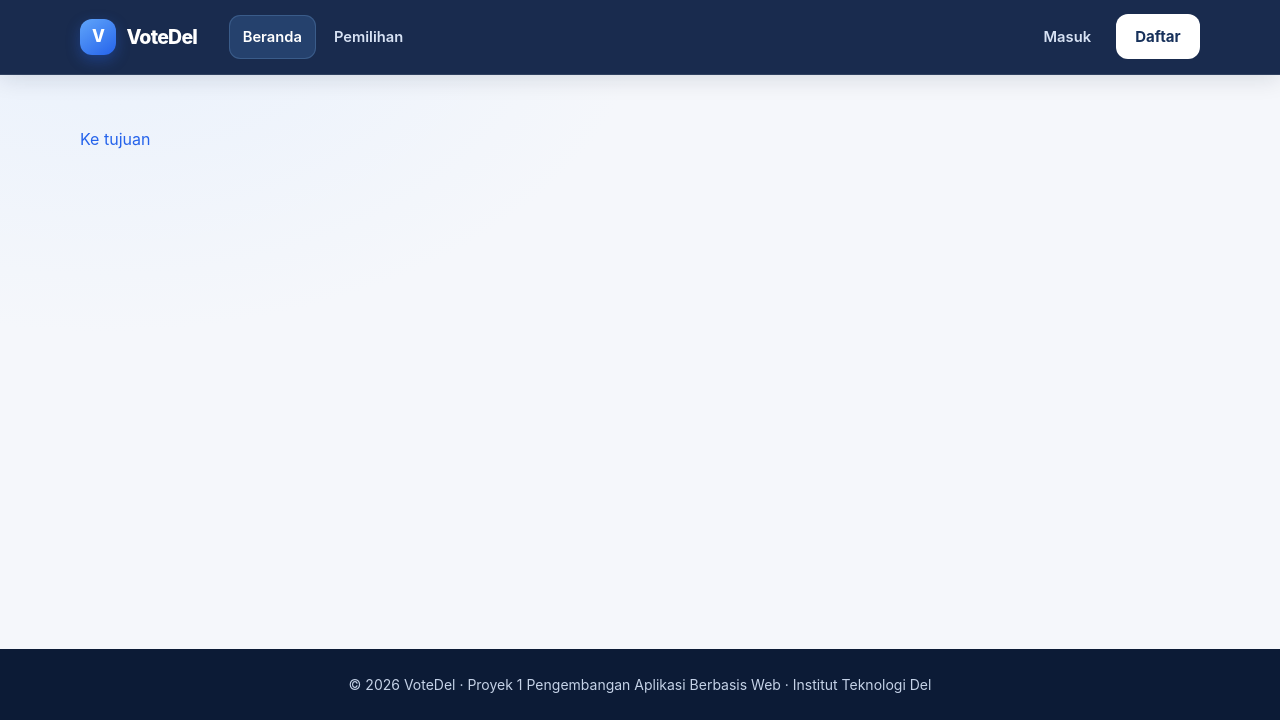
Test: MainLayout › memindahkan fokus ke konten utama saat halaman berganti
Click the link "Ke tujuan" at point(115, 139), box [80,129,150,149]
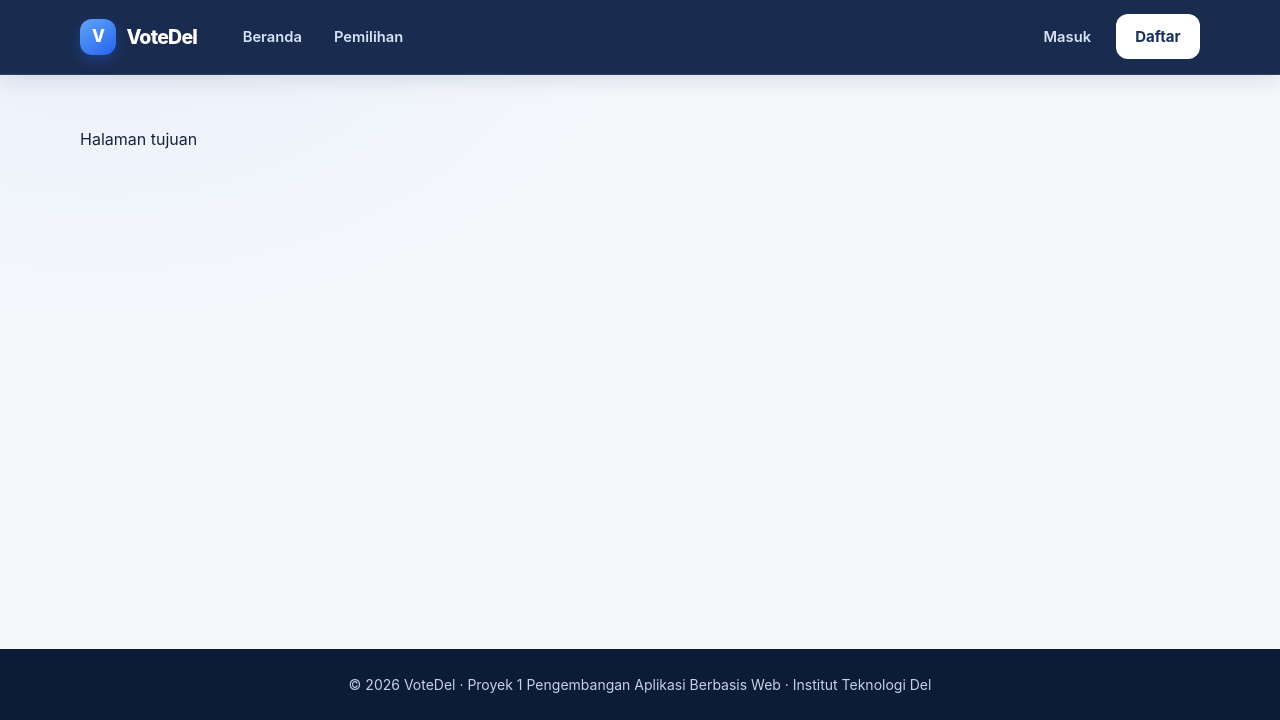
Check: the text "Halaman tujuan" is shown, box [80,129,197,149]
